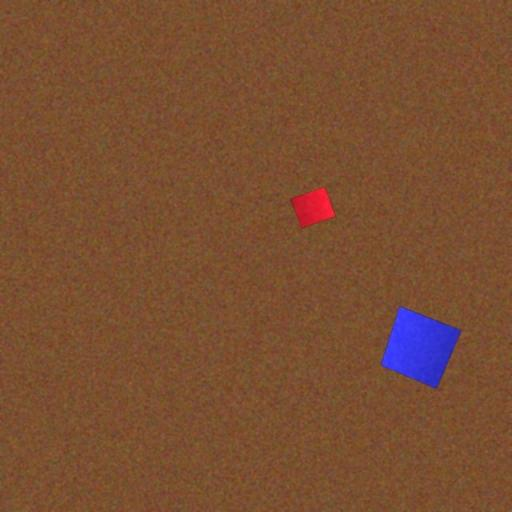BLUE_SQUARE: (380, 306, 462, 388)
RED_SQUARE: (290, 186, 336, 229)
